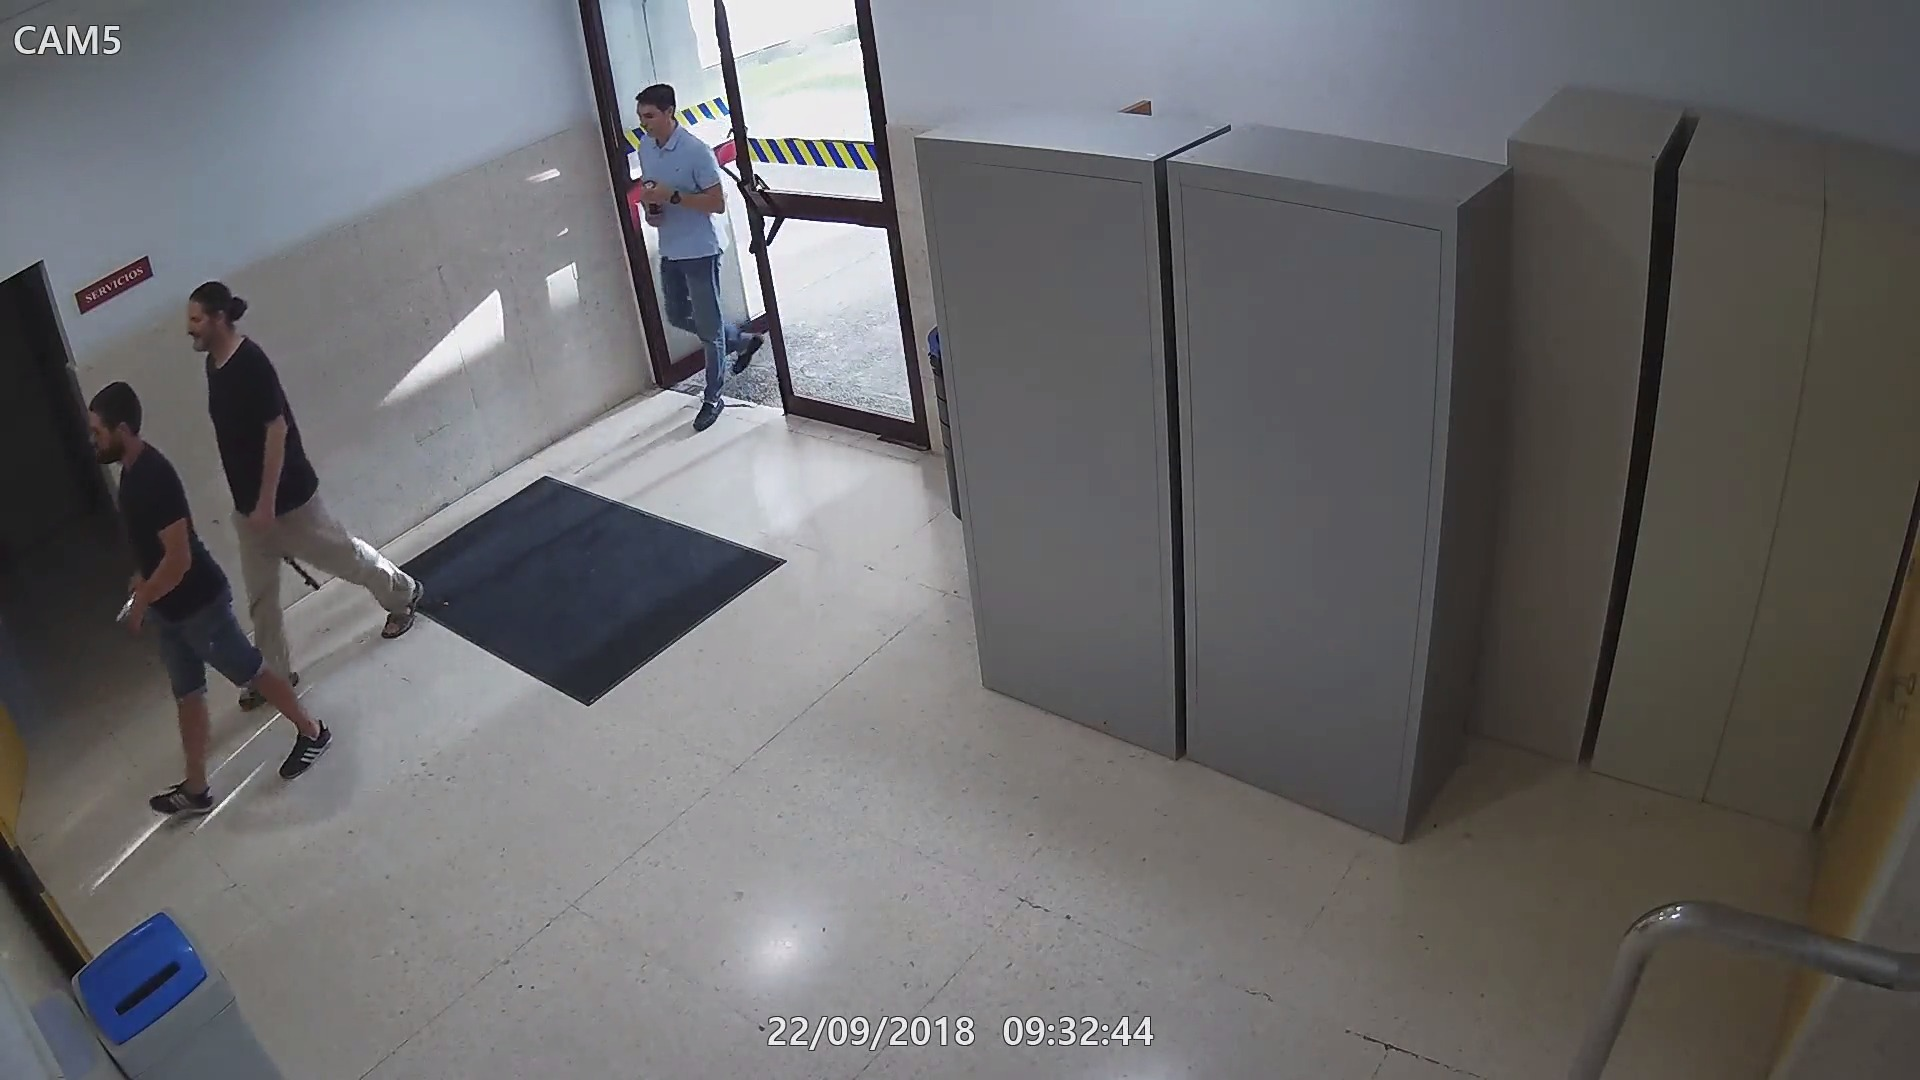Handgun: (104, 578, 158, 626)
Short_rifle: (280, 554, 323, 599)
